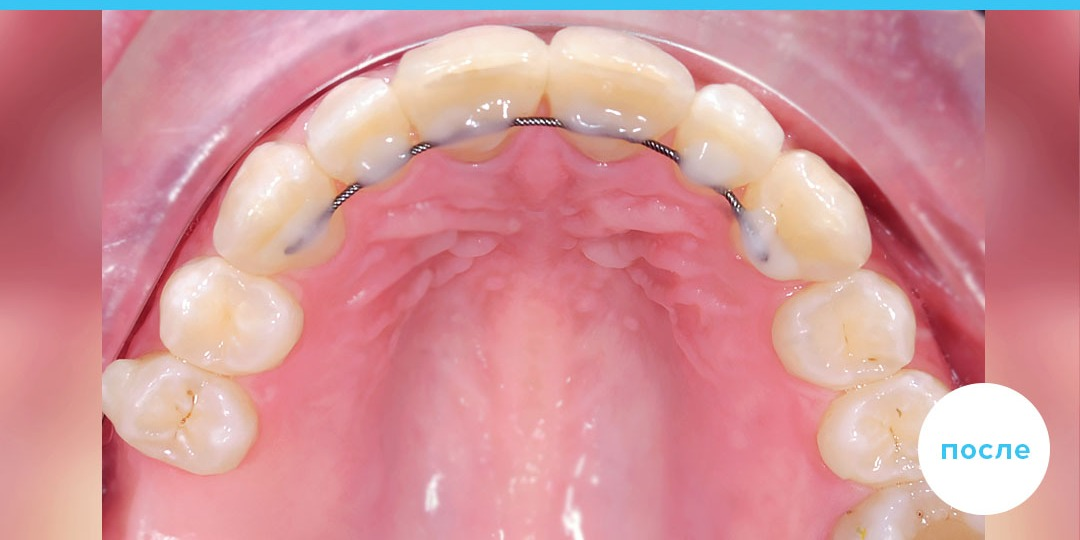UL1BC_healthy: (773, 273, 915, 385)
UL2BC_healthy: (819, 374, 919, 484)
ULCI_decay: (548, 26, 694, 160)
ULC_decay: (737, 148, 871, 279)
ULLI_decay: (677, 84, 783, 188)
UR1BC_healthy: (159, 258, 304, 376)
UR2BC_decay: (107, 359, 257, 472)
URCI_decay: (400, 24, 547, 158)
URC_decay: (214, 145, 346, 273)
URLI_decay: (307, 76, 410, 188)
